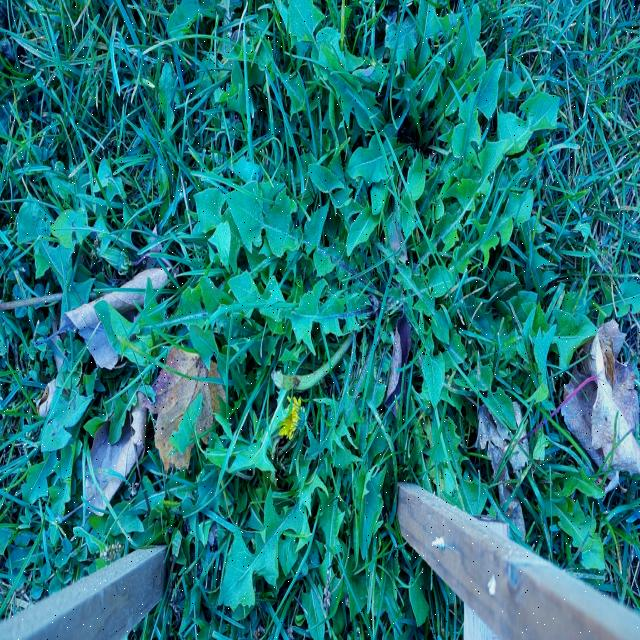flower: (0, 0, 108, 300)
